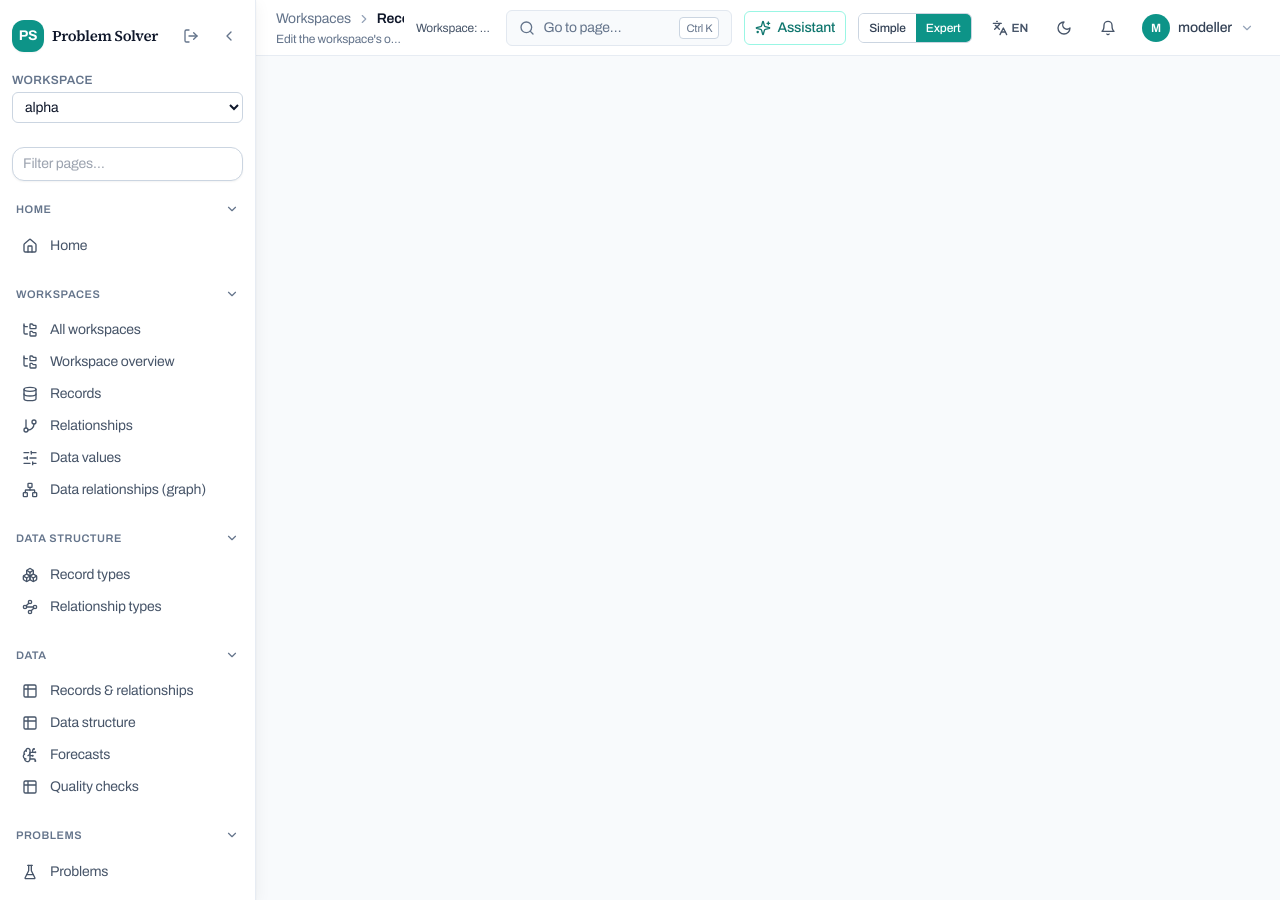
Test: AppShell › narrows the visible pages via the filter box, hiding groups with no match
This screenshot has width=1280, height=900.
Type "templ" into the search field with placeholder "Filter pages…" at (128, 164), box 12,147 -> 243,181
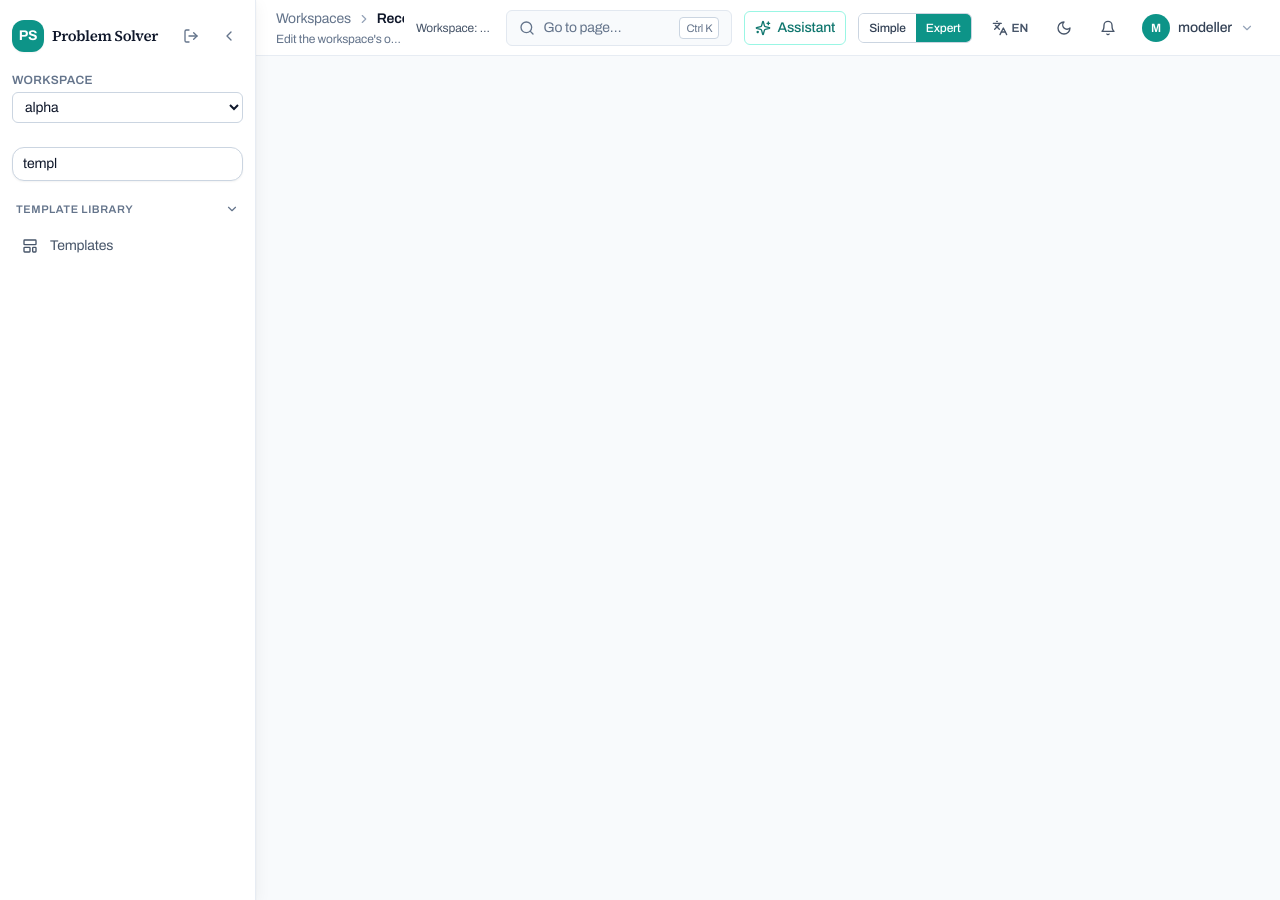
Now the link "Templates" is shown, box 22,238 -> 113,254
Now the button "Problems" is gone
Now the link "All workspaces" is gone
